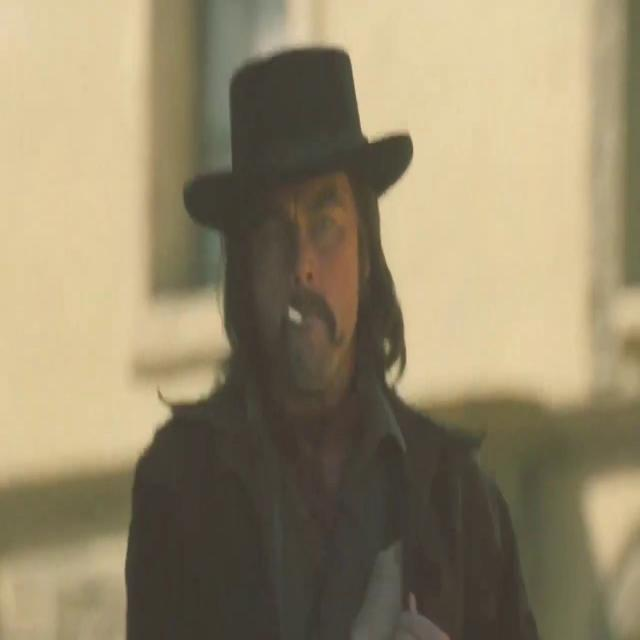Smooking: (280, 295, 304, 334)
